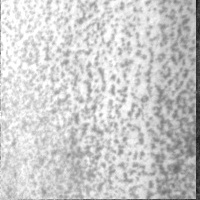crazing: (5, 95, 200, 191), (74, 3, 200, 99)
pitted_surface: (1, 0, 196, 199)
